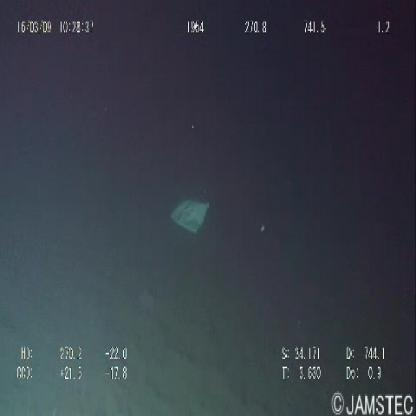Rác: (166, 188, 212, 245)
